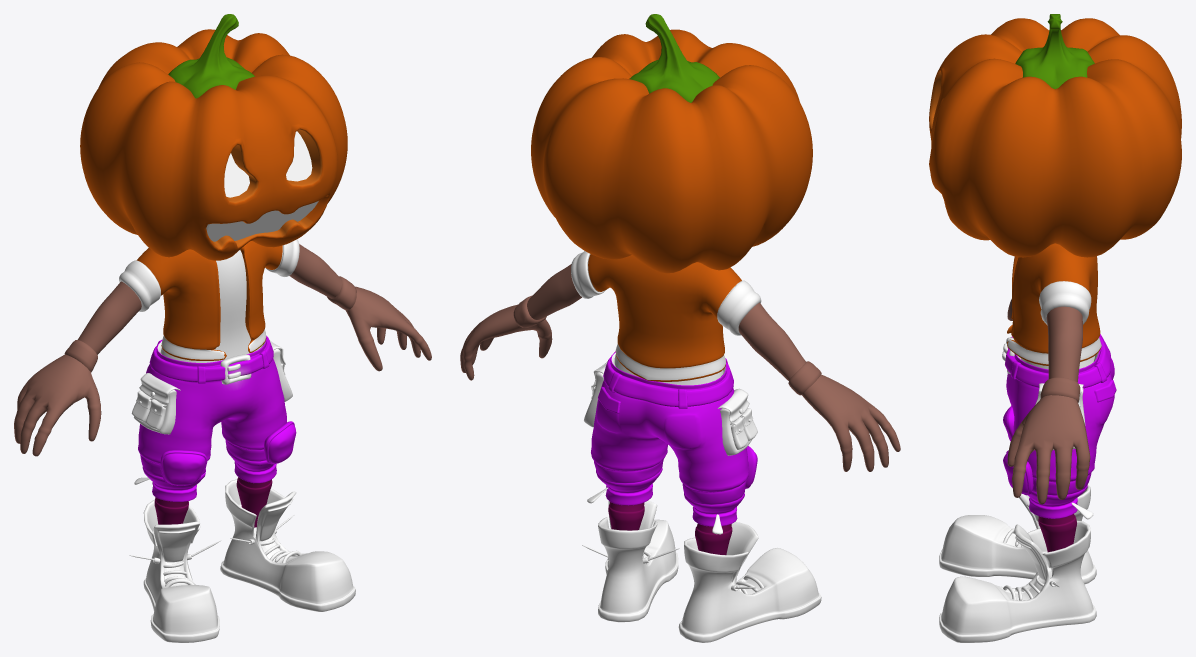
Rendered from Jack Lanter.fbx.
The picture shows the model from 3 angles, left to right: view 1: azimuth 30°, elevation 25°; view 2: azimuth 150°, elevation 25°; view 3: azimuth 270°, elevation 25°; orthographic projection. The views are drawn at different scales.
Visible parts, largest first — view 1: Cranio; view 2: Cranio; view 3: Cranio.
Part boxes in pixels (bbox=[...]): Cranio: bbox=[14, 14, 431, 642]; Cranio: bbox=[460, 14, 900, 642]; Cranio: bbox=[929, 14, 1181, 642].
Bounding box in the file's own units: 3381 × 4585 × 1784.
